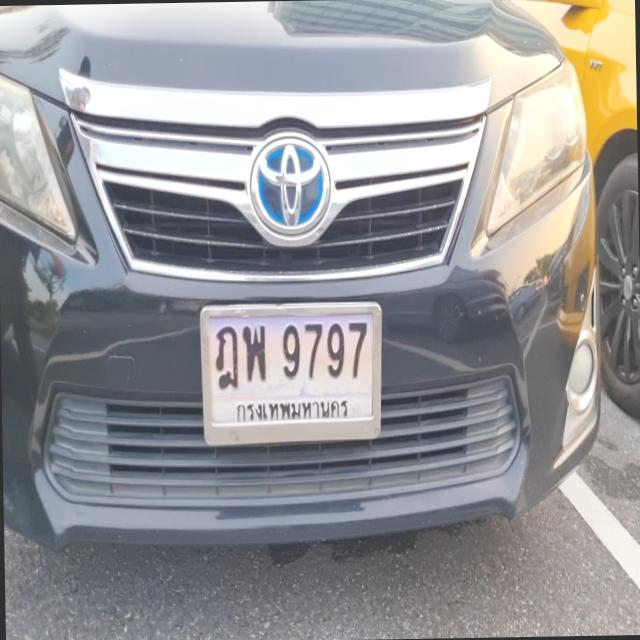license_plate: (196, 294, 388, 441)
